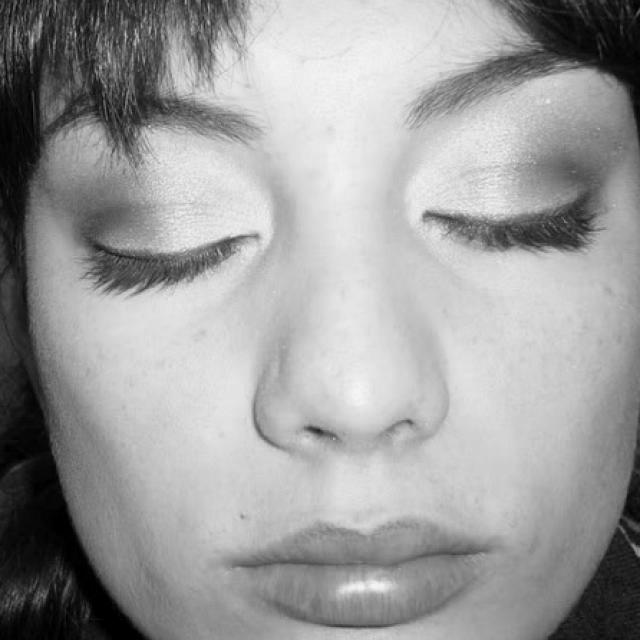real: (22, 3, 640, 640), (62, 157, 606, 306)
